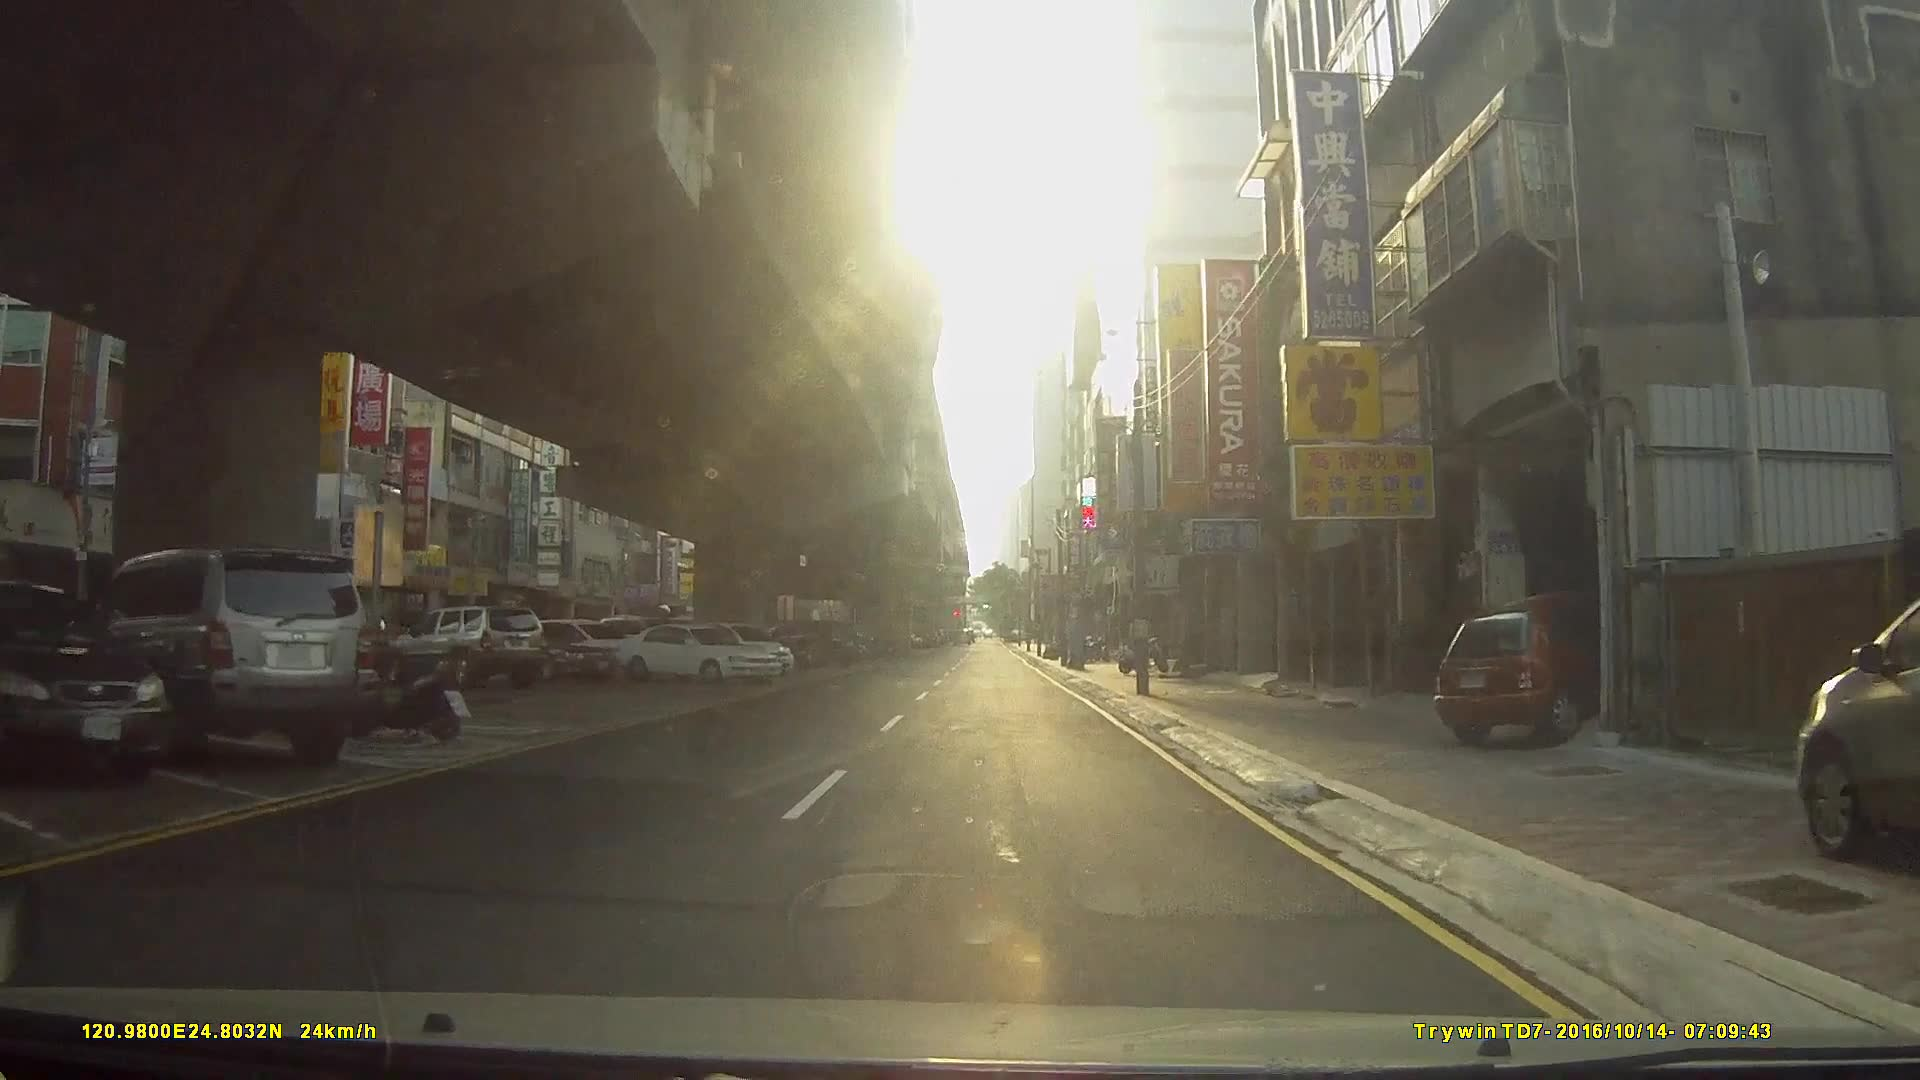vehicle: (61, 547, 377, 765), (0, 578, 175, 781), (1793, 596, 1920, 862), (1433, 587, 1638, 745), (385, 603, 545, 684), (444, 618, 613, 684), (613, 622, 785, 684)
